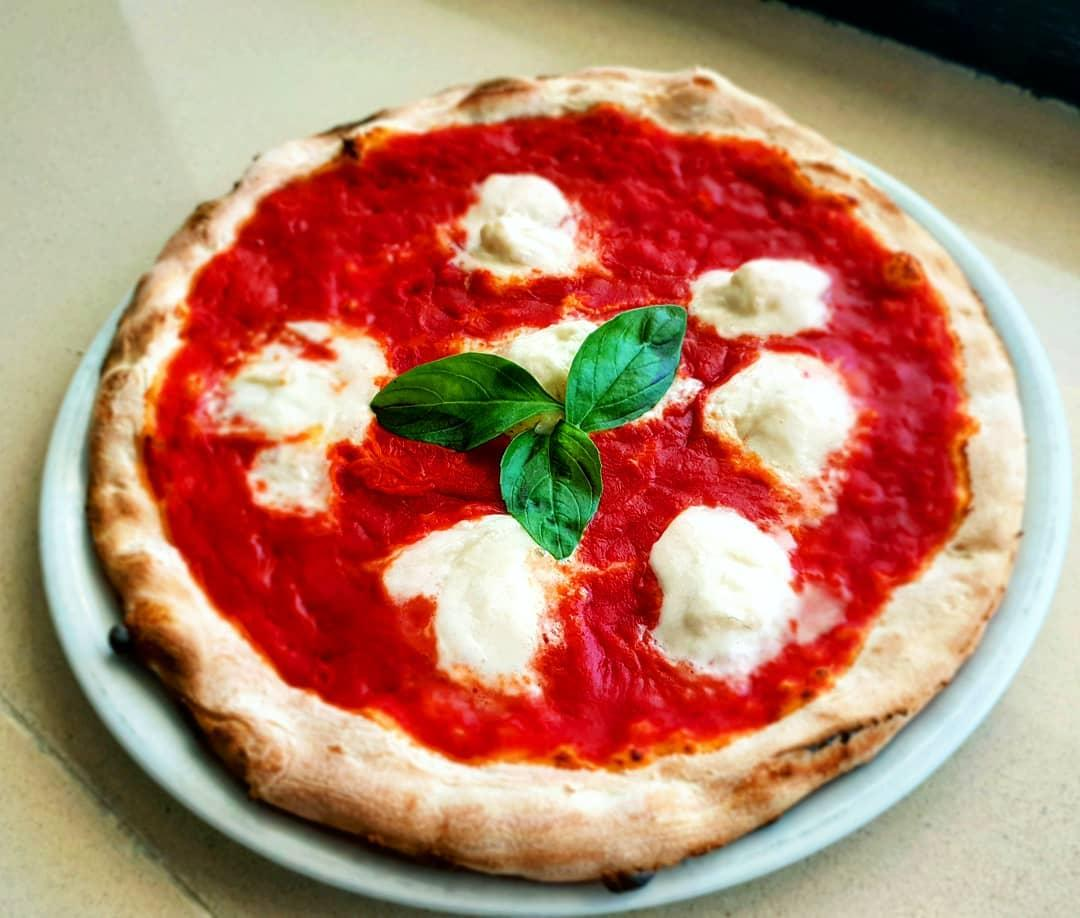Basil: (364, 352, 563, 447), (496, 410, 608, 550), (552, 304, 677, 422)
Cheese: (640, 500, 805, 669), (216, 328, 379, 489), (391, 508, 546, 668), (712, 354, 866, 482), (452, 174, 583, 278), (702, 252, 821, 329), (502, 310, 586, 367)
Pizza: (88, 60, 1021, 863)
